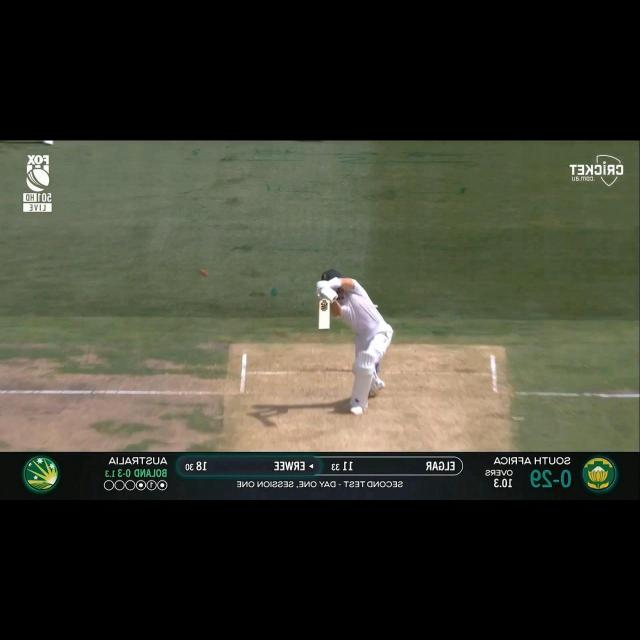bat: (318, 299, 330, 331)
toe: (318, 325, 330, 334)
